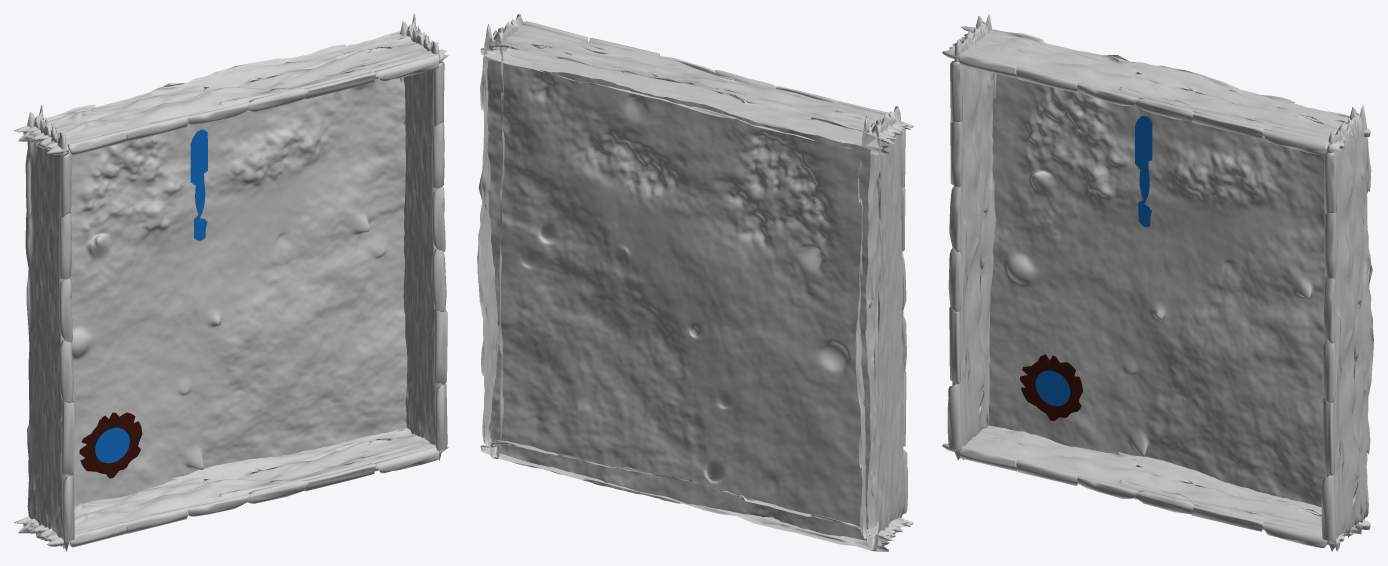
The model's file is newterrain_4.obj.
The picture shows the model from 3 angles, left to right: view 1: azimuth 30°, elevation 25°; view 2: azimuth 150°, elevation 25°; view 3: azimuth 330°, elevation 25°; orthographic projection.
Parts seen in each view (by area): view 1: terrain_rock, wall1, wall3, wall2, wall4, mud_1, water_1, water_3; view 2: terrain_rock, wall1, wall3, wall2, wall4; view 3: terrain_rock, wall2, wall3, wall1, wall4, mud_1, water_1, water_3.
Part boxes in pixels (bbox=[...]): terrain_rock: bbox=[67, 78, 407, 505]; wall1: bbox=[25, 105, 74, 551]; wall3: bbox=[14, 31, 448, 155]; wall2: bbox=[400, 14, 447, 460]; wall4: bbox=[14, 428, 448, 547]; mud_1: bbox=[79, 412, 142, 478]; water_1: bbox=[190, 129, 207, 240]; water_3: bbox=[95, 427, 129, 463]; terrain_rock: bbox=[487, 59, 870, 540]; wall1: bbox=[855, 106, 907, 550]; wall3: bbox=[480, 21, 913, 154]; wall2: bbox=[477, 14, 522, 458]; wall4: bbox=[480, 439, 913, 551]; terrain_rock: bbox=[988, 74, 1363, 534]; wall2: bbox=[1321, 105, 1373, 551]; wall3: bbox=[942, 26, 1370, 155]; wall1: bbox=[947, 14, 996, 460]; wall4: bbox=[942, 425, 1370, 547]; mud_1: bbox=[1020, 354, 1082, 421]; water_1: bbox=[1135, 116, 1152, 226]; water_3: bbox=[1035, 370, 1070, 406].
Size of the model in its own units: 88.06 by 87.92 by 12.86.
